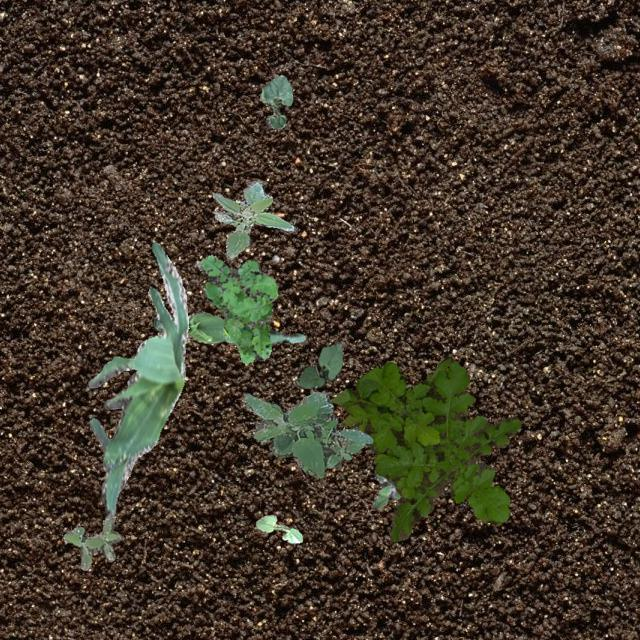crop: (86, 242, 188, 514), (153, 310, 304, 372), (294, 340, 344, 388), (260, 74, 292, 128), (254, 514, 302, 542)
weed: (330, 356, 520, 540), (242, 391, 372, 476), (194, 254, 276, 362), (212, 180, 292, 258), (62, 512, 120, 568), (372, 468, 399, 506)
